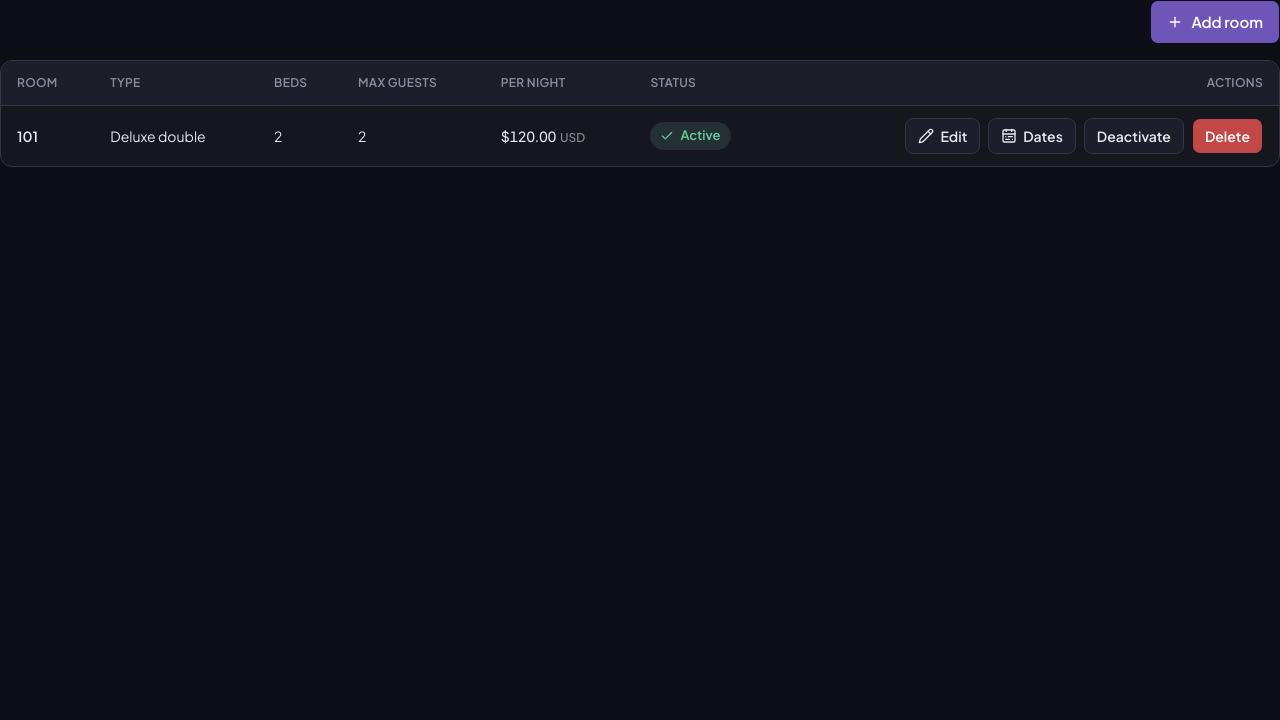
cancelling the delete confirmation sends nothing
Click the button "Delete" at (1227, 136), box x1=1192 y1=118 x2=1263 y2=154
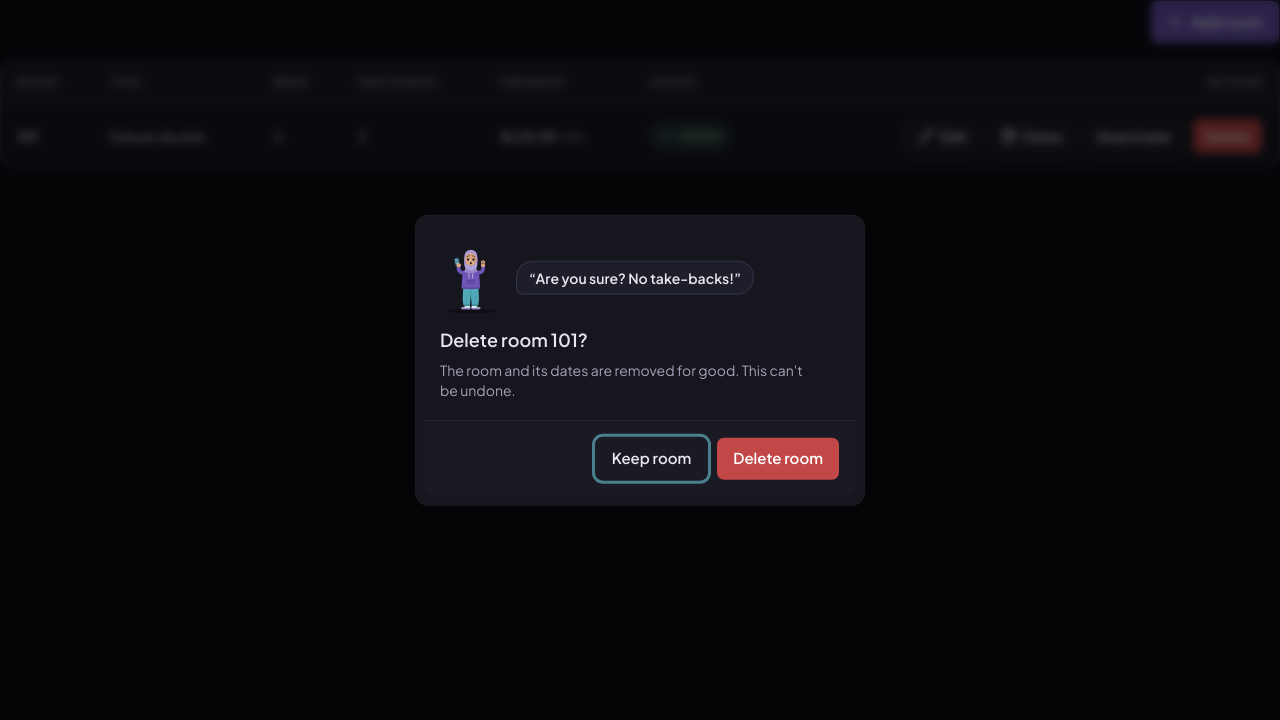
Click the button "Keep room" at (651, 458), box x1=595 y1=436 x2=708 y2=480
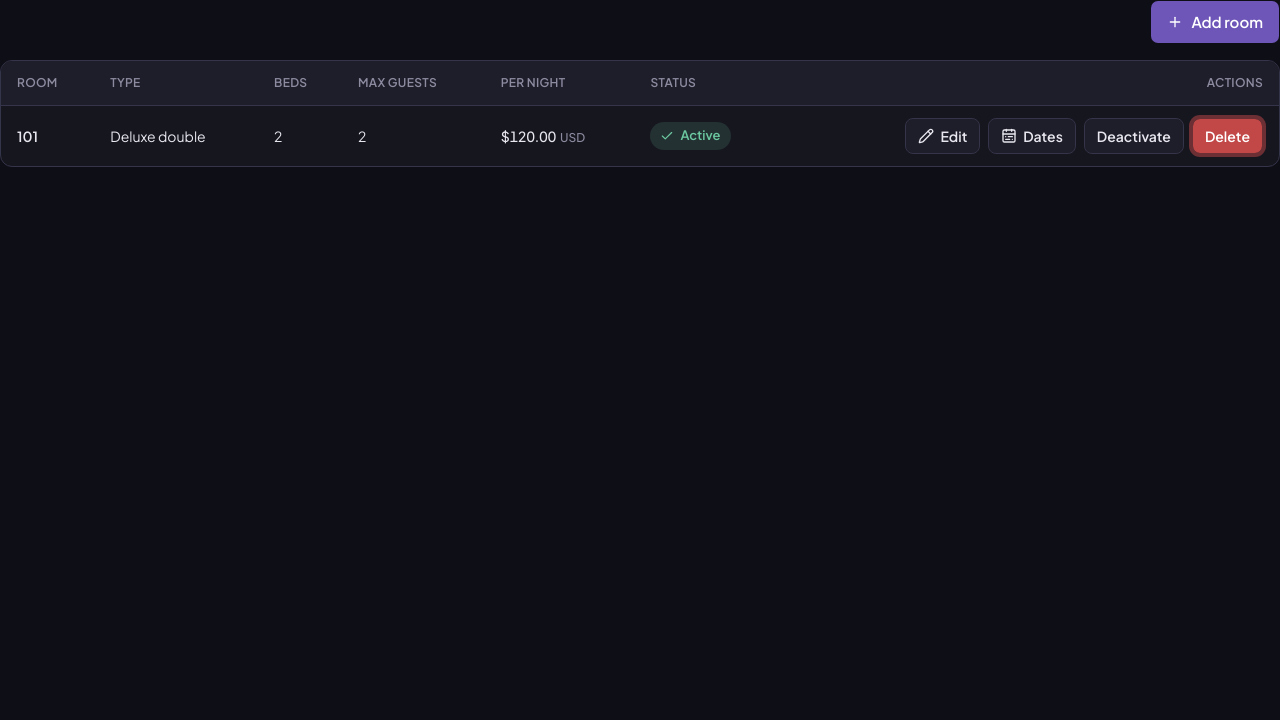
Check: the dialog is gone
